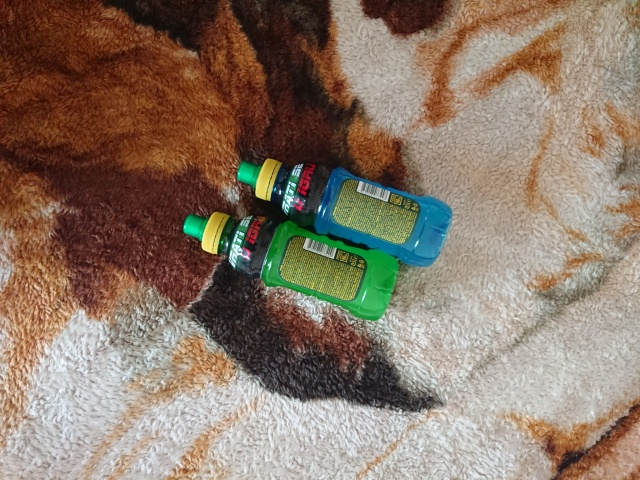Vindi Iso Sport Forest Strawberries 500mL: (235, 156, 454, 270)
Vindi Iso Sport Lemon-Grapefruit 500mL: (180, 211, 402, 324)
